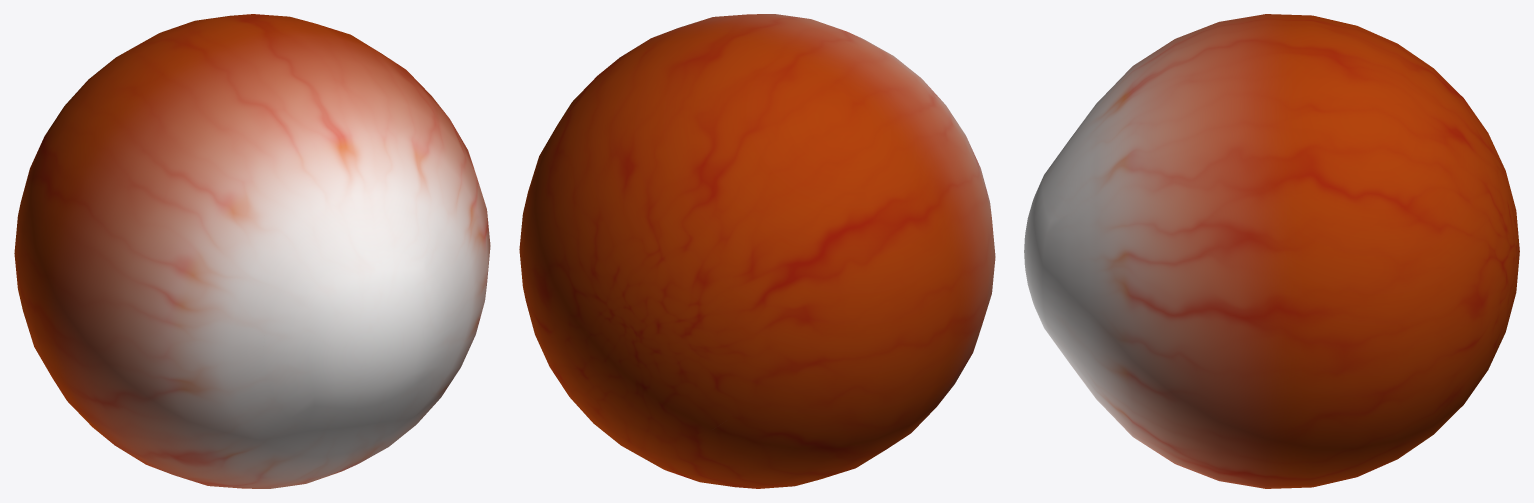
File: Lowpoly.fbx
3 renders of one model, left to right at view 1: azimuth 30°, elevation 25°; view 2: azimuth 150°, elevation 25°; view 3: azimuth 270°, elevation 25°, orthographic.
Parts seen in each view (by area): view 1: Eye; view 2: Eye; view 3: Eye.
Part boxes in pixels (left/top/right/bottom): Eye: left=14, top=14, right=490, bottom=488; Eye: left=519, top=14, right=995, bottom=488; Eye: left=1024, top=14, right=1519, bottom=488.
Size of the model in its own units: 198 by 198 by 206.
